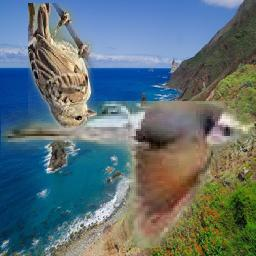Cuckoo: (1, 102, 255, 249)
Sparrow: (29, 4, 98, 129)
